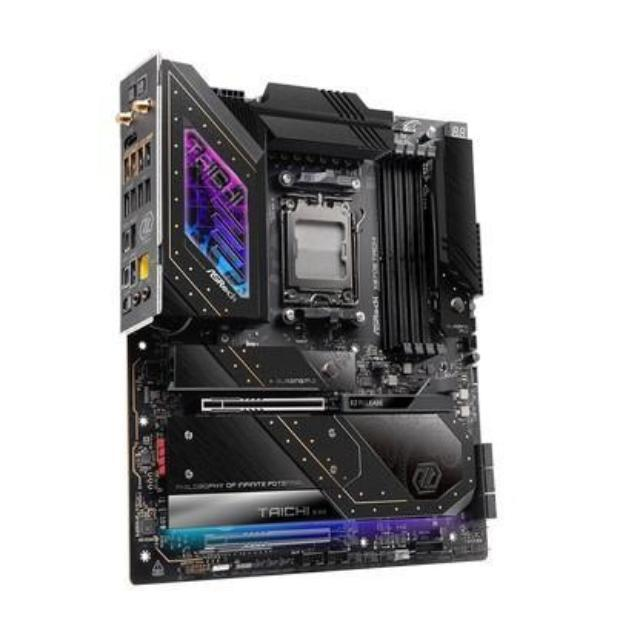Mainboard: (100, 34, 502, 588)
